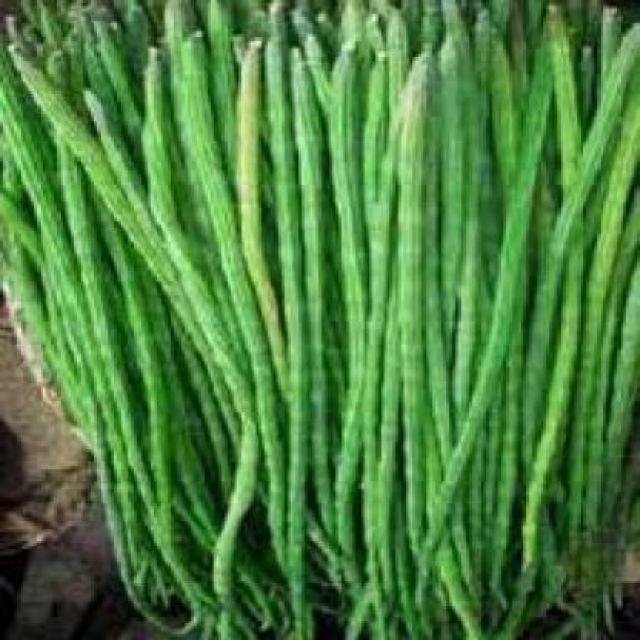BIODEGRADABLE: (0, 3, 638, 638), (409, 9, 566, 597), (130, 54, 262, 626), (509, 34, 637, 612), (171, 35, 275, 578), (56, 3, 142, 626), (5, 43, 173, 299), (563, 77, 637, 634), (512, 2, 580, 581), (347, 14, 407, 637), (420, 20, 471, 638), (264, 3, 310, 637), (327, 57, 370, 600), (401, 54, 441, 577), (1, 74, 62, 400), (232, 42, 285, 404), (288, 46, 324, 566), (80, 88, 154, 248), (196, 2, 239, 162), (159, 2, 199, 92)
